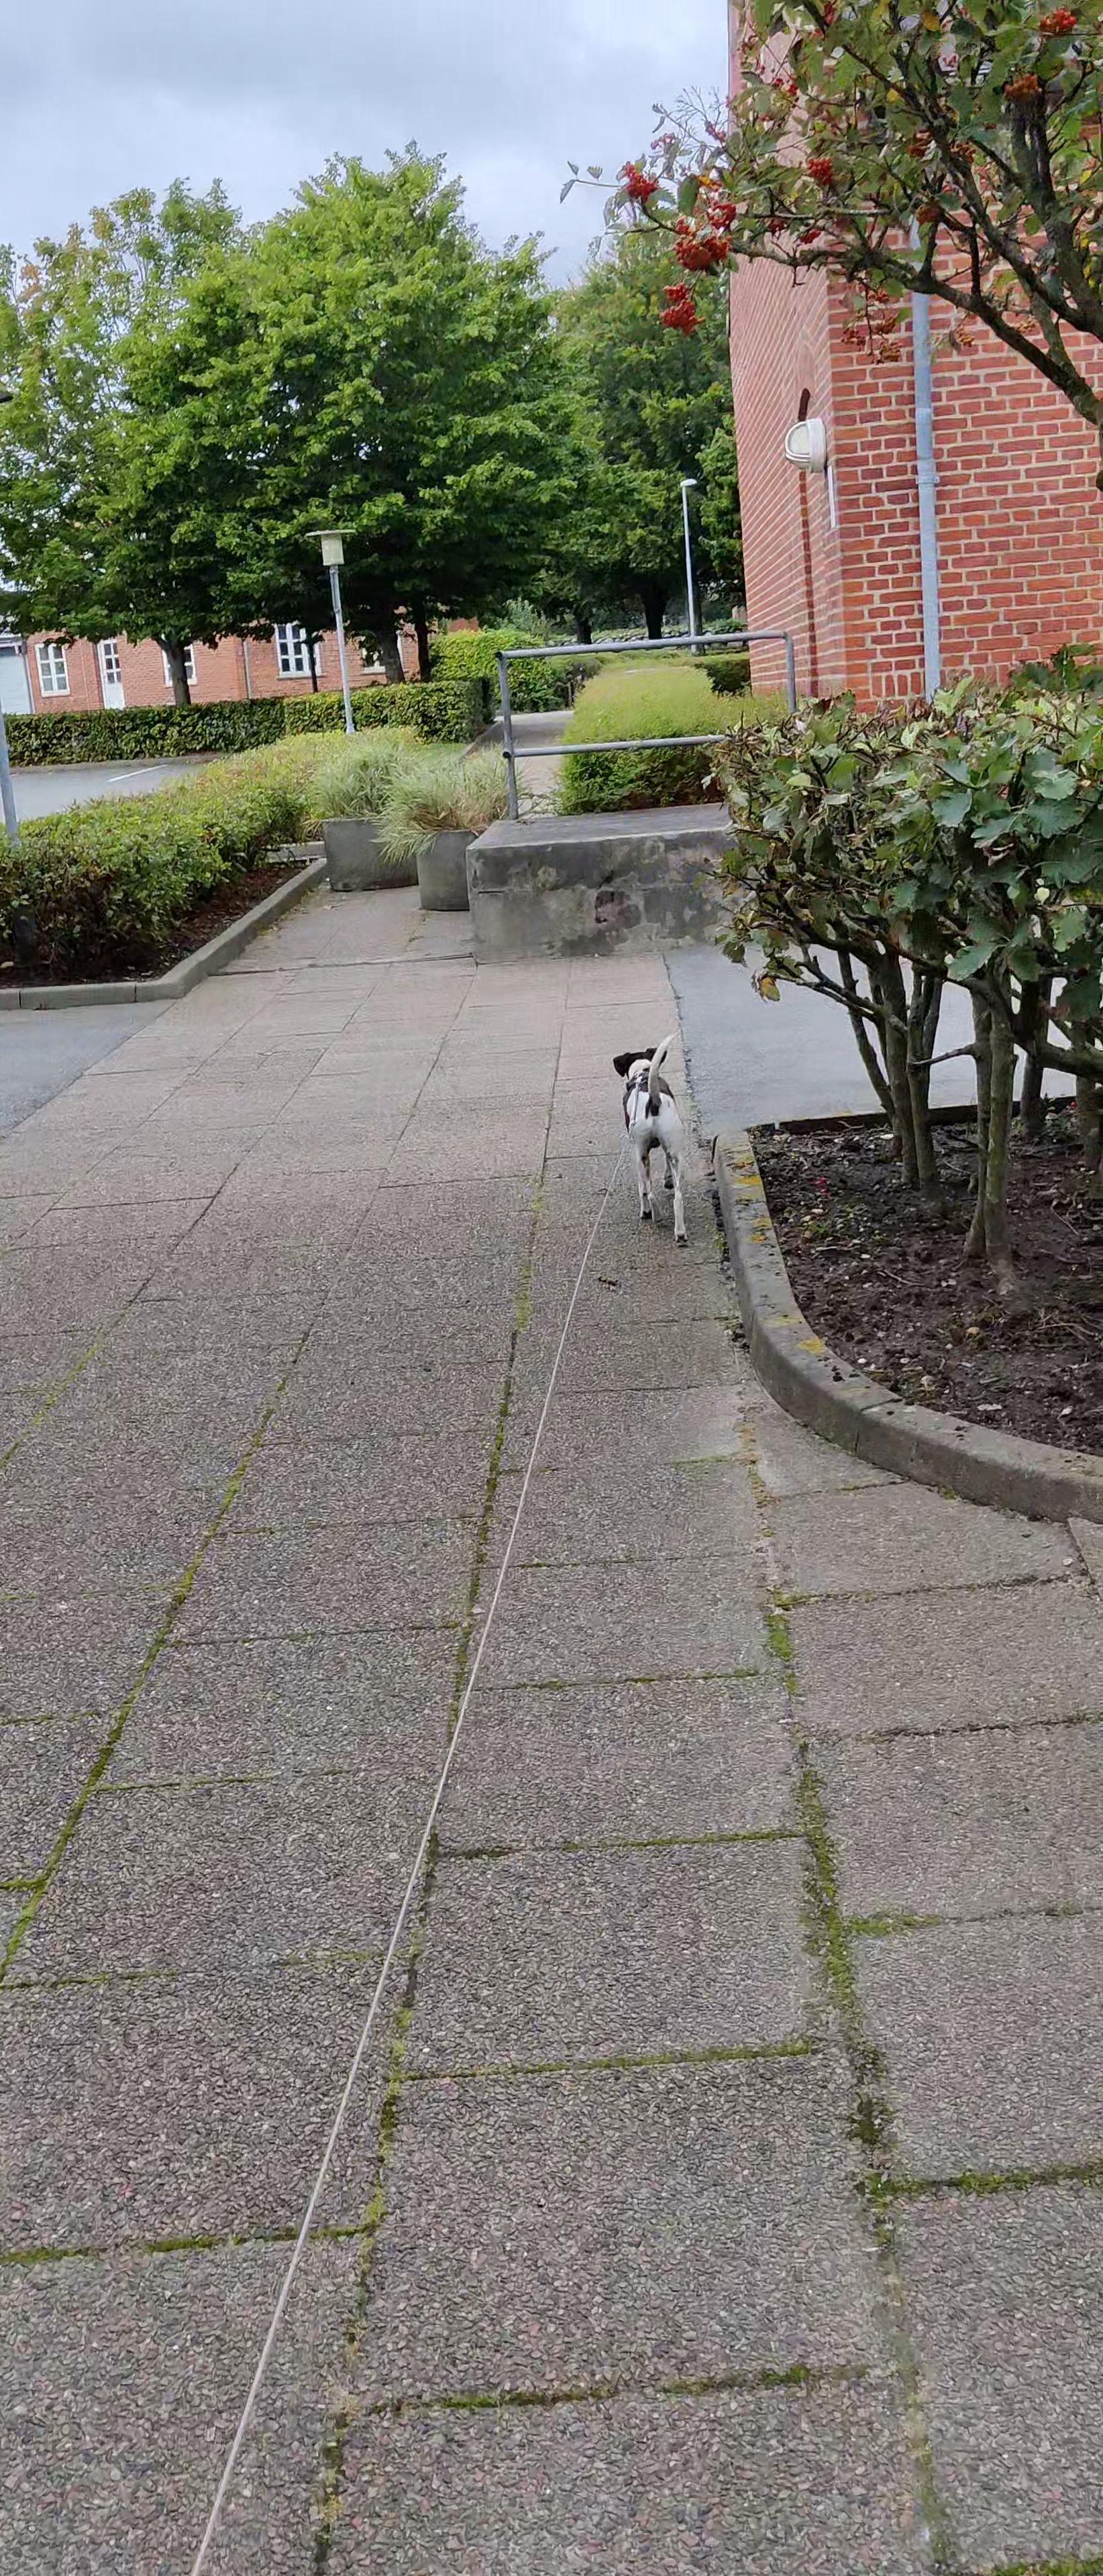Dog: (611, 1028, 694, 1245)
